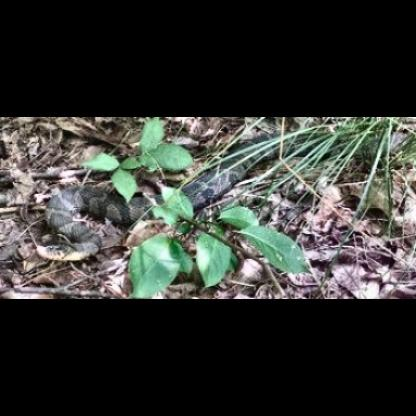Snake: (37, 176, 126, 270)
